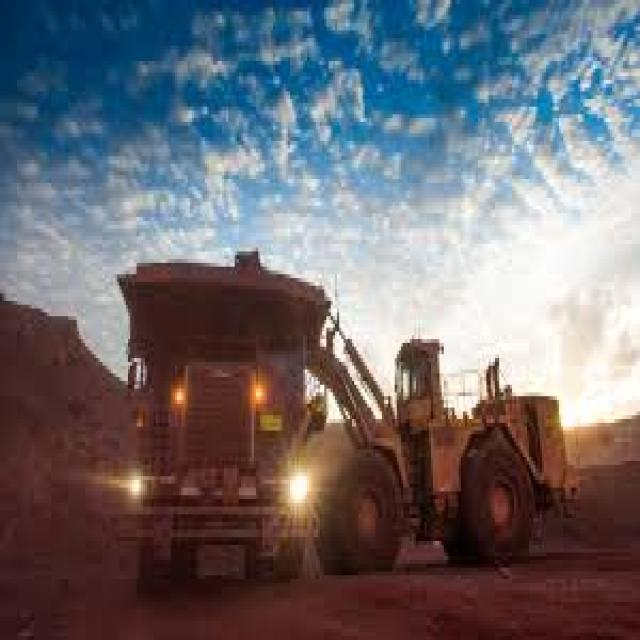buldozerpayloadergrader: (316, 256, 593, 594)
dump_truck: (115, 221, 335, 579)
